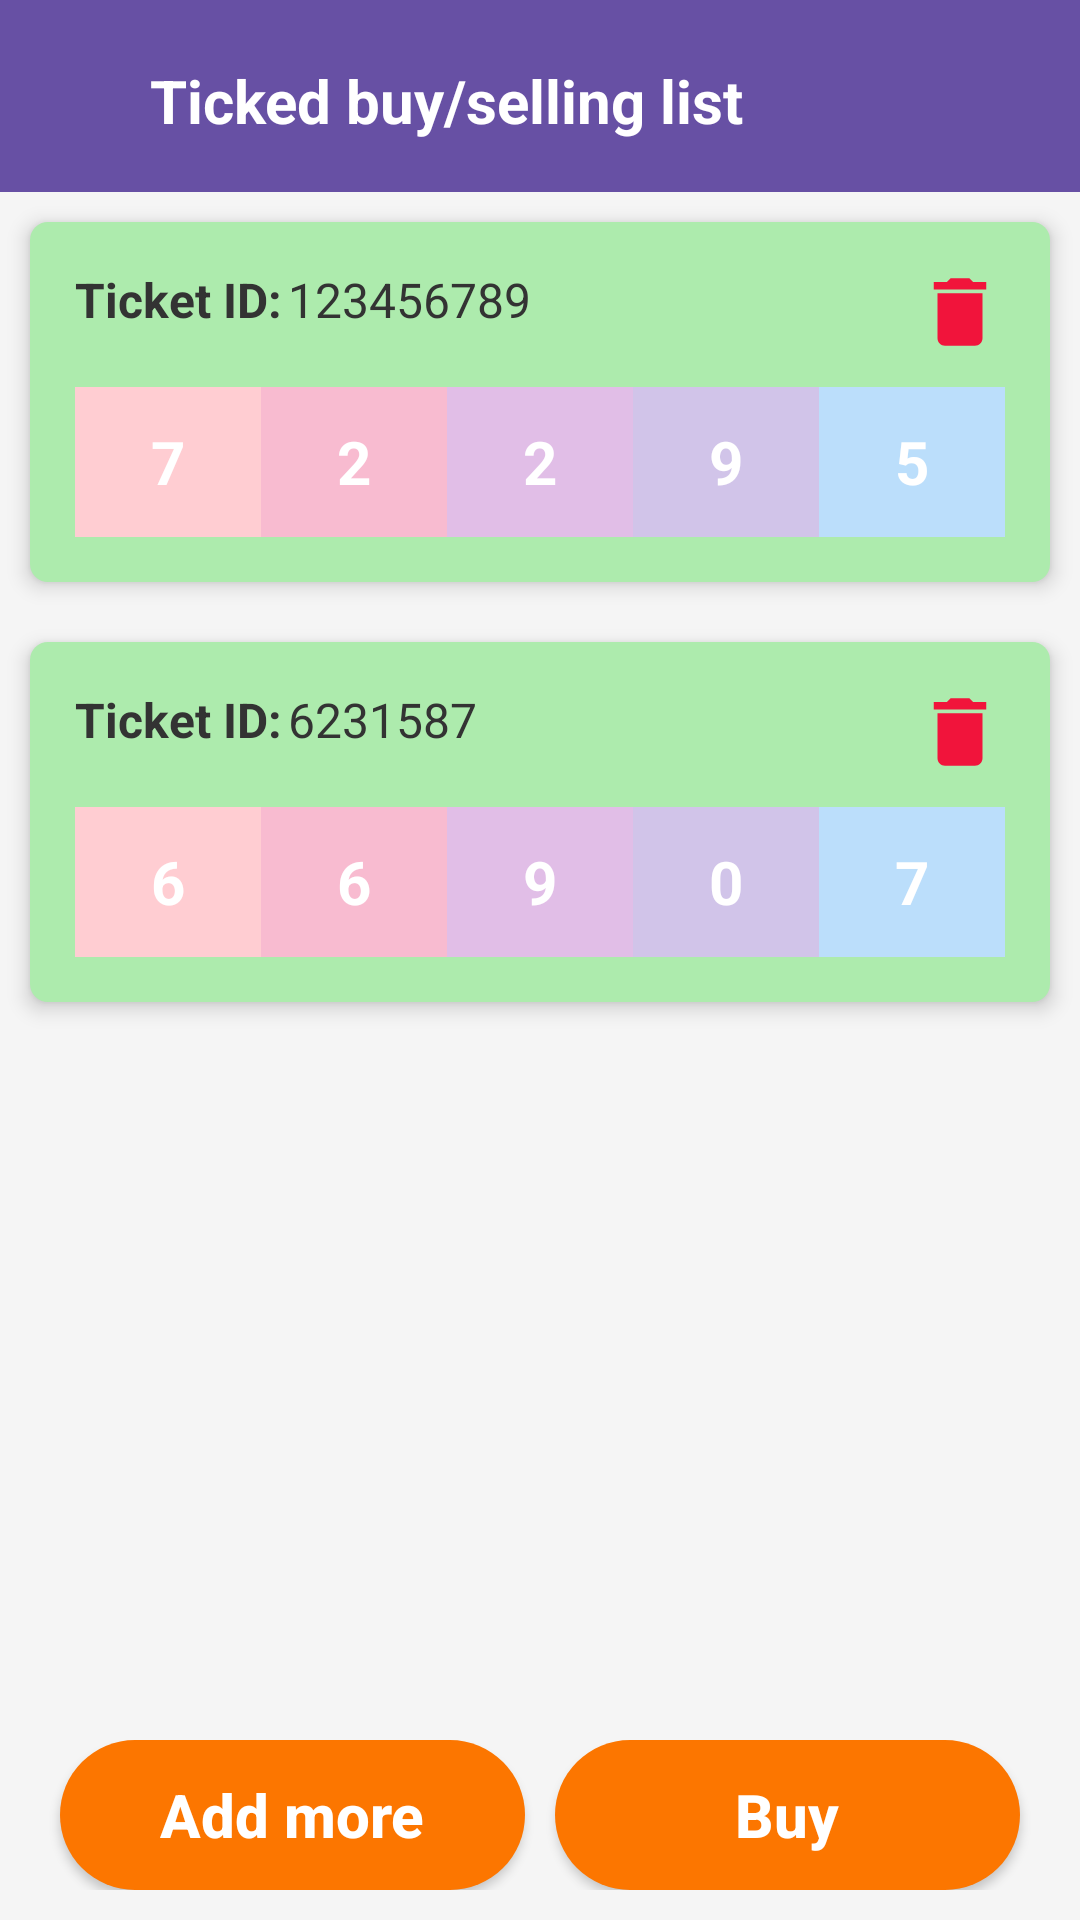

Screen size 1080px×1920px. Icon name, then its center in pixels as [x,y]:
delete: [960,312], [960,732]
